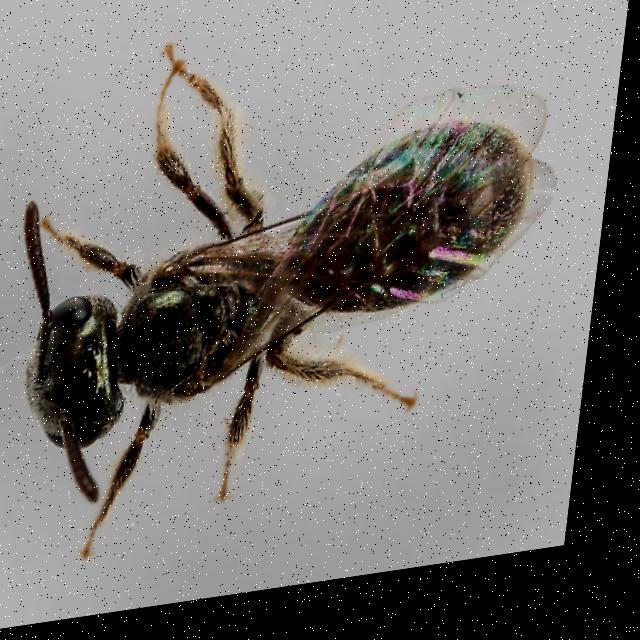Braunsapis: (0, 1, 583, 559)
